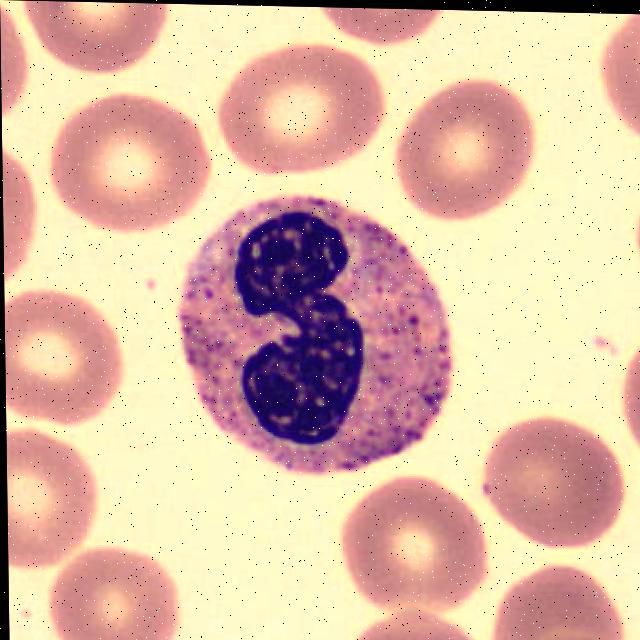neutrophil: (173, 186, 467, 496)
rbc: (222, 44, 382, 181), (55, 96, 206, 230), (350, 482, 484, 620), (401, 87, 531, 219), (487, 426, 622, 550), (4, 292, 119, 414), (44, 548, 171, 640), (485, 561, 623, 640), (6, 437, 91, 564), (36, 1, 174, 71), (589, 13, 640, 124), (316, 7, 454, 42), (361, 598, 474, 640), (2, 147, 32, 274), (0, 0, 21, 117), (515, 625, 638, 640), (628, 334, 640, 462), (630, 191, 640, 293)
